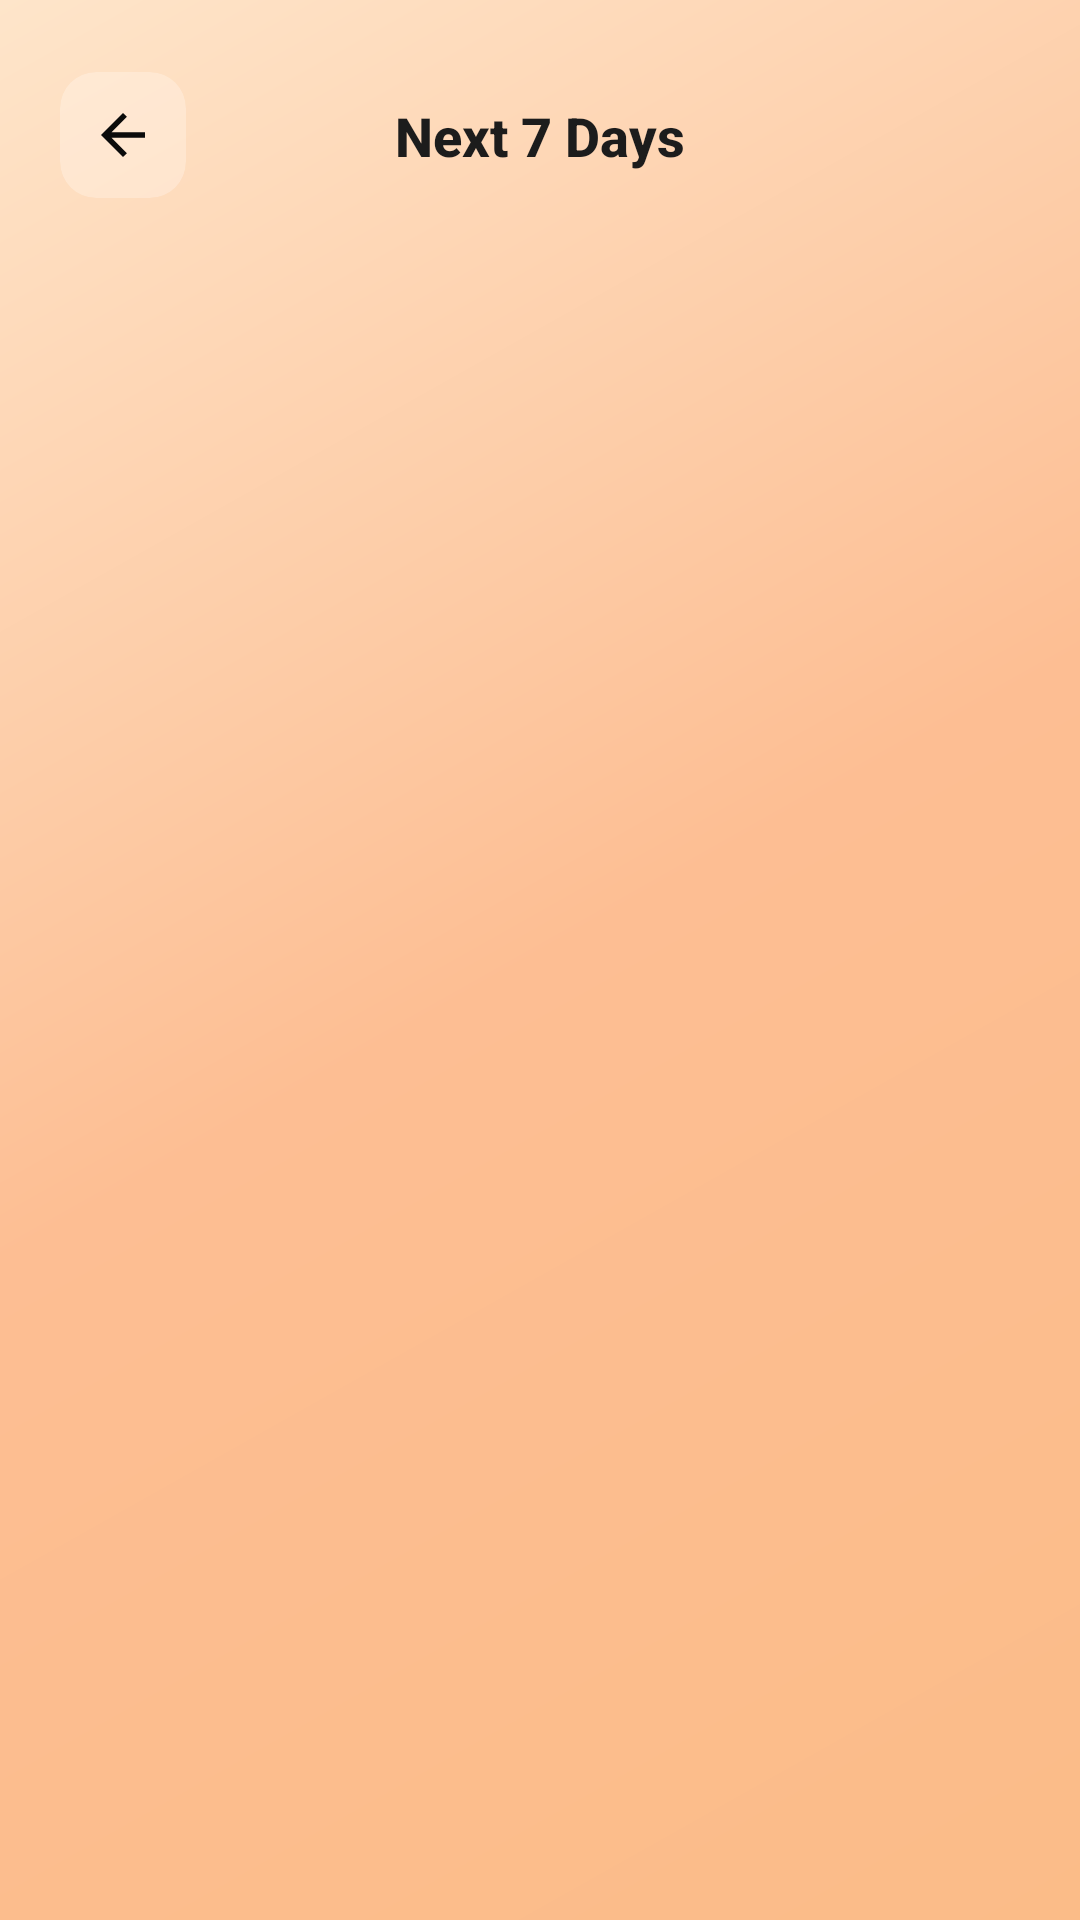

Where icons sit on this 1080 × 1920 app screen, as (x1, y1, x2, y2):
Back: (101, 113, 145, 157)
